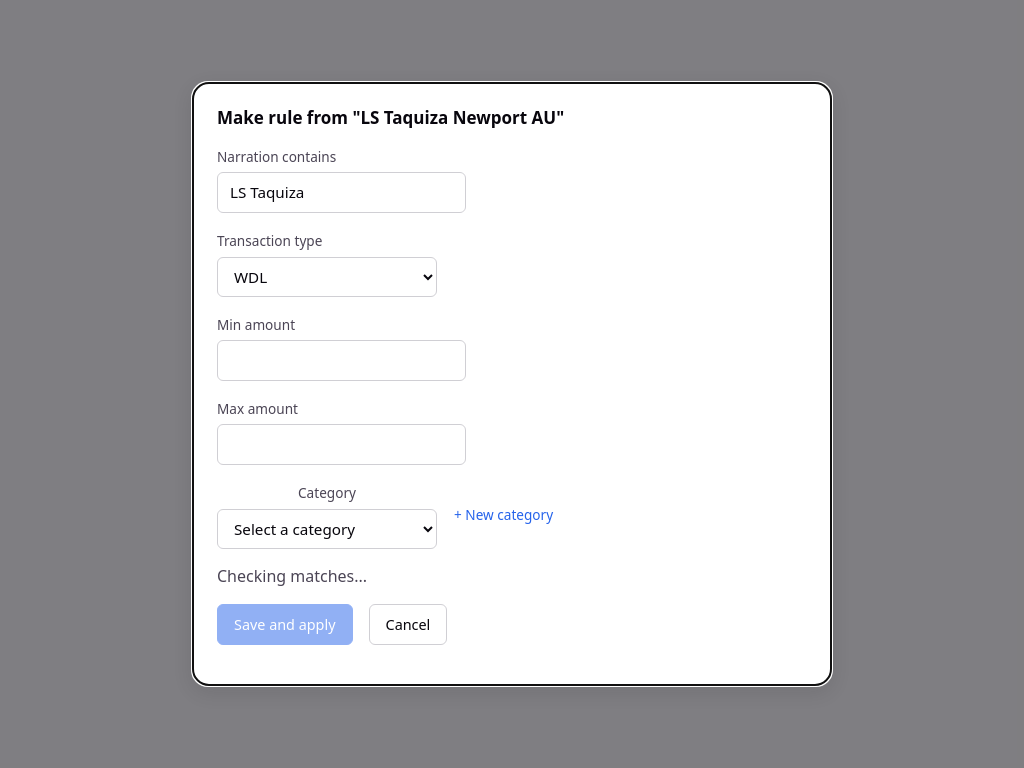
RuleEditor › enables Save and apply on selecting the FIRST category, with none prefilled
Expected: the button "Save and apply" is disabled, [217,604,352,645]
Select "Groceries" in the dropdown labelled "Category" at (327, 529), box [217,509,437,549]
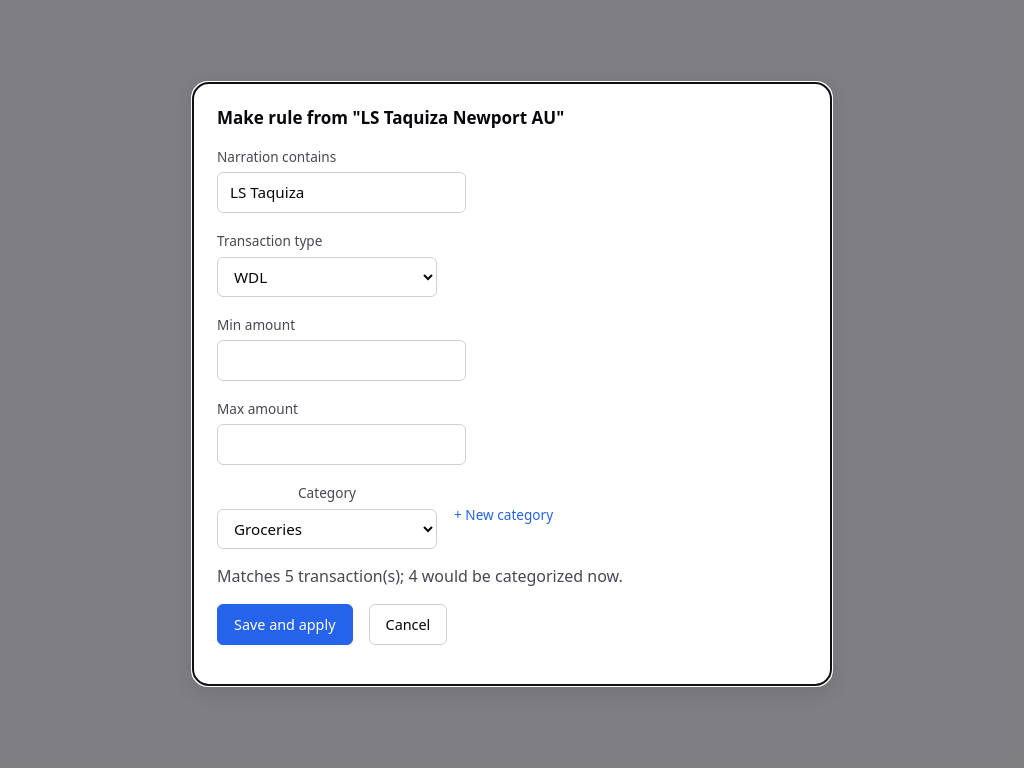
Expected: the button "Save and apply" is enabled, [217,604,352,645]
